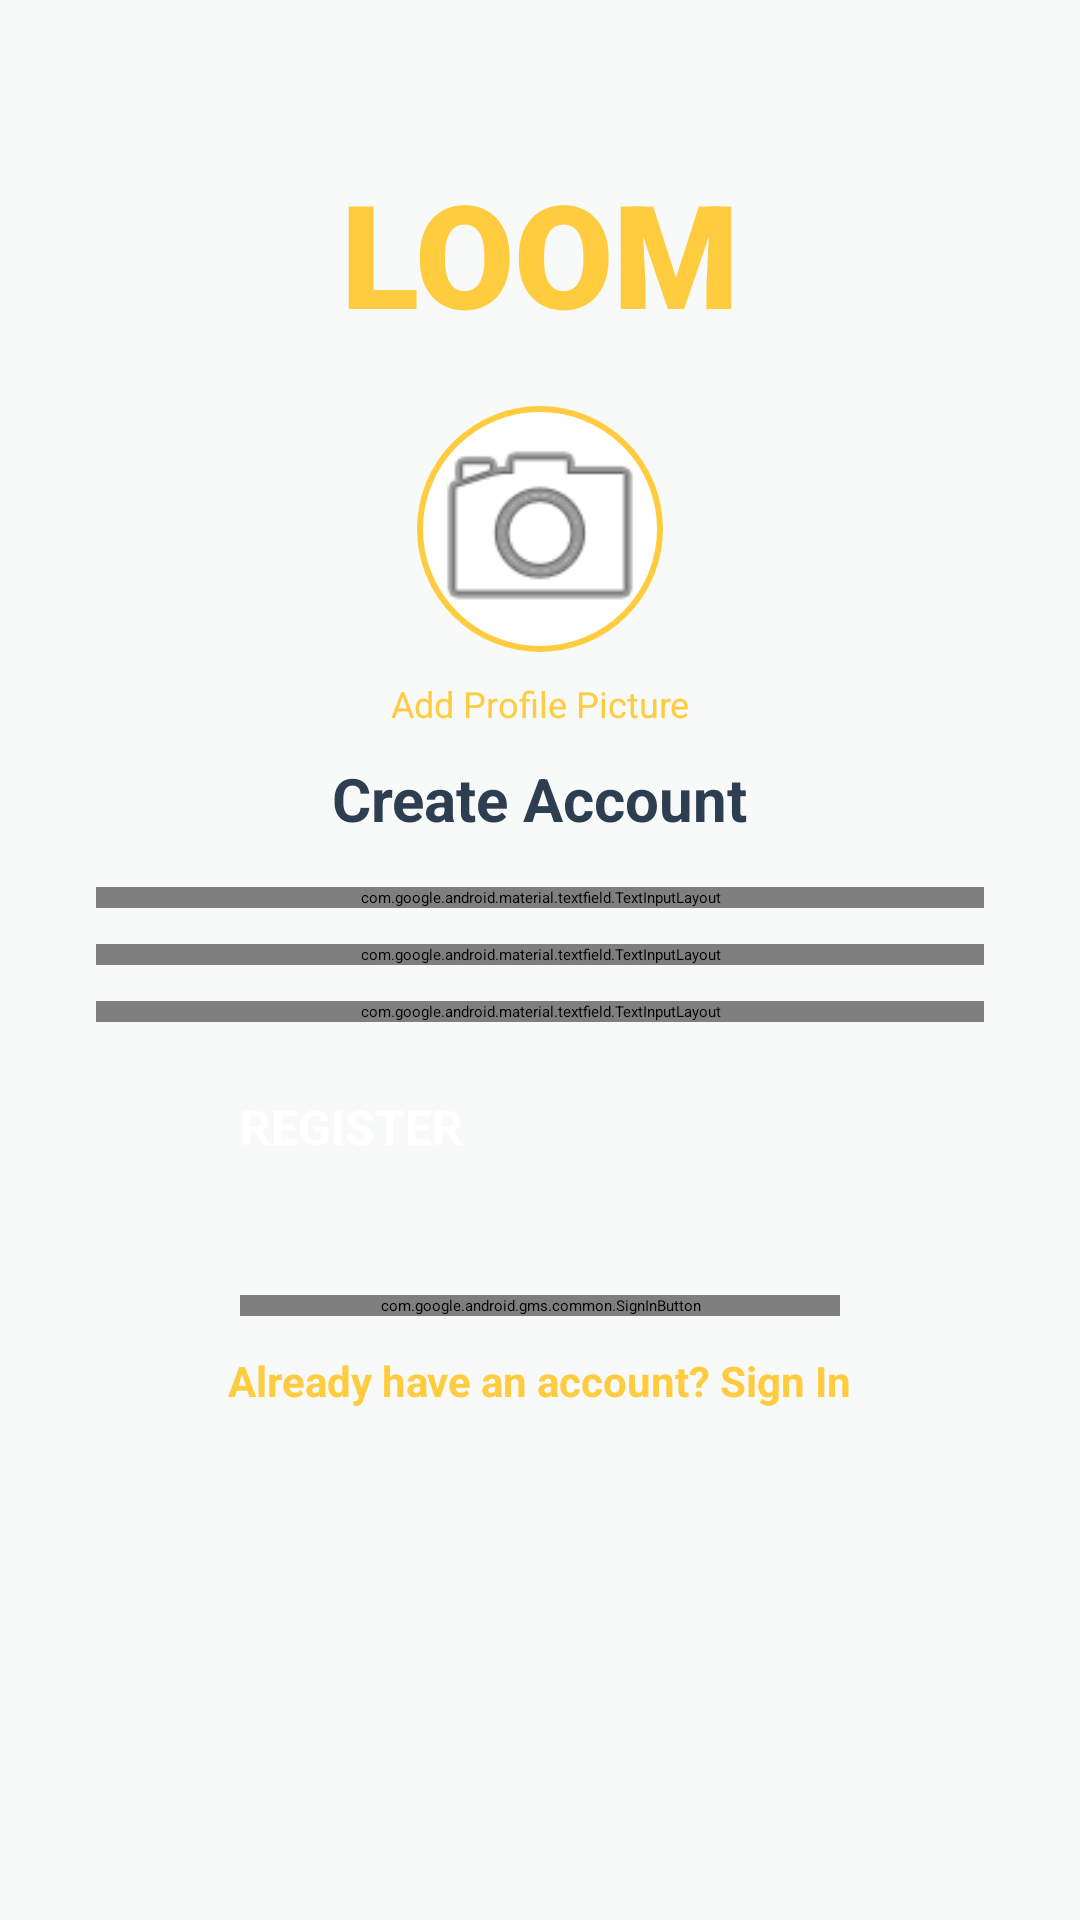

Where icons sit on this 1080px×1920px app screen, as (x1, y1, x2, y2):
camera: (417, 406, 663, 652)
